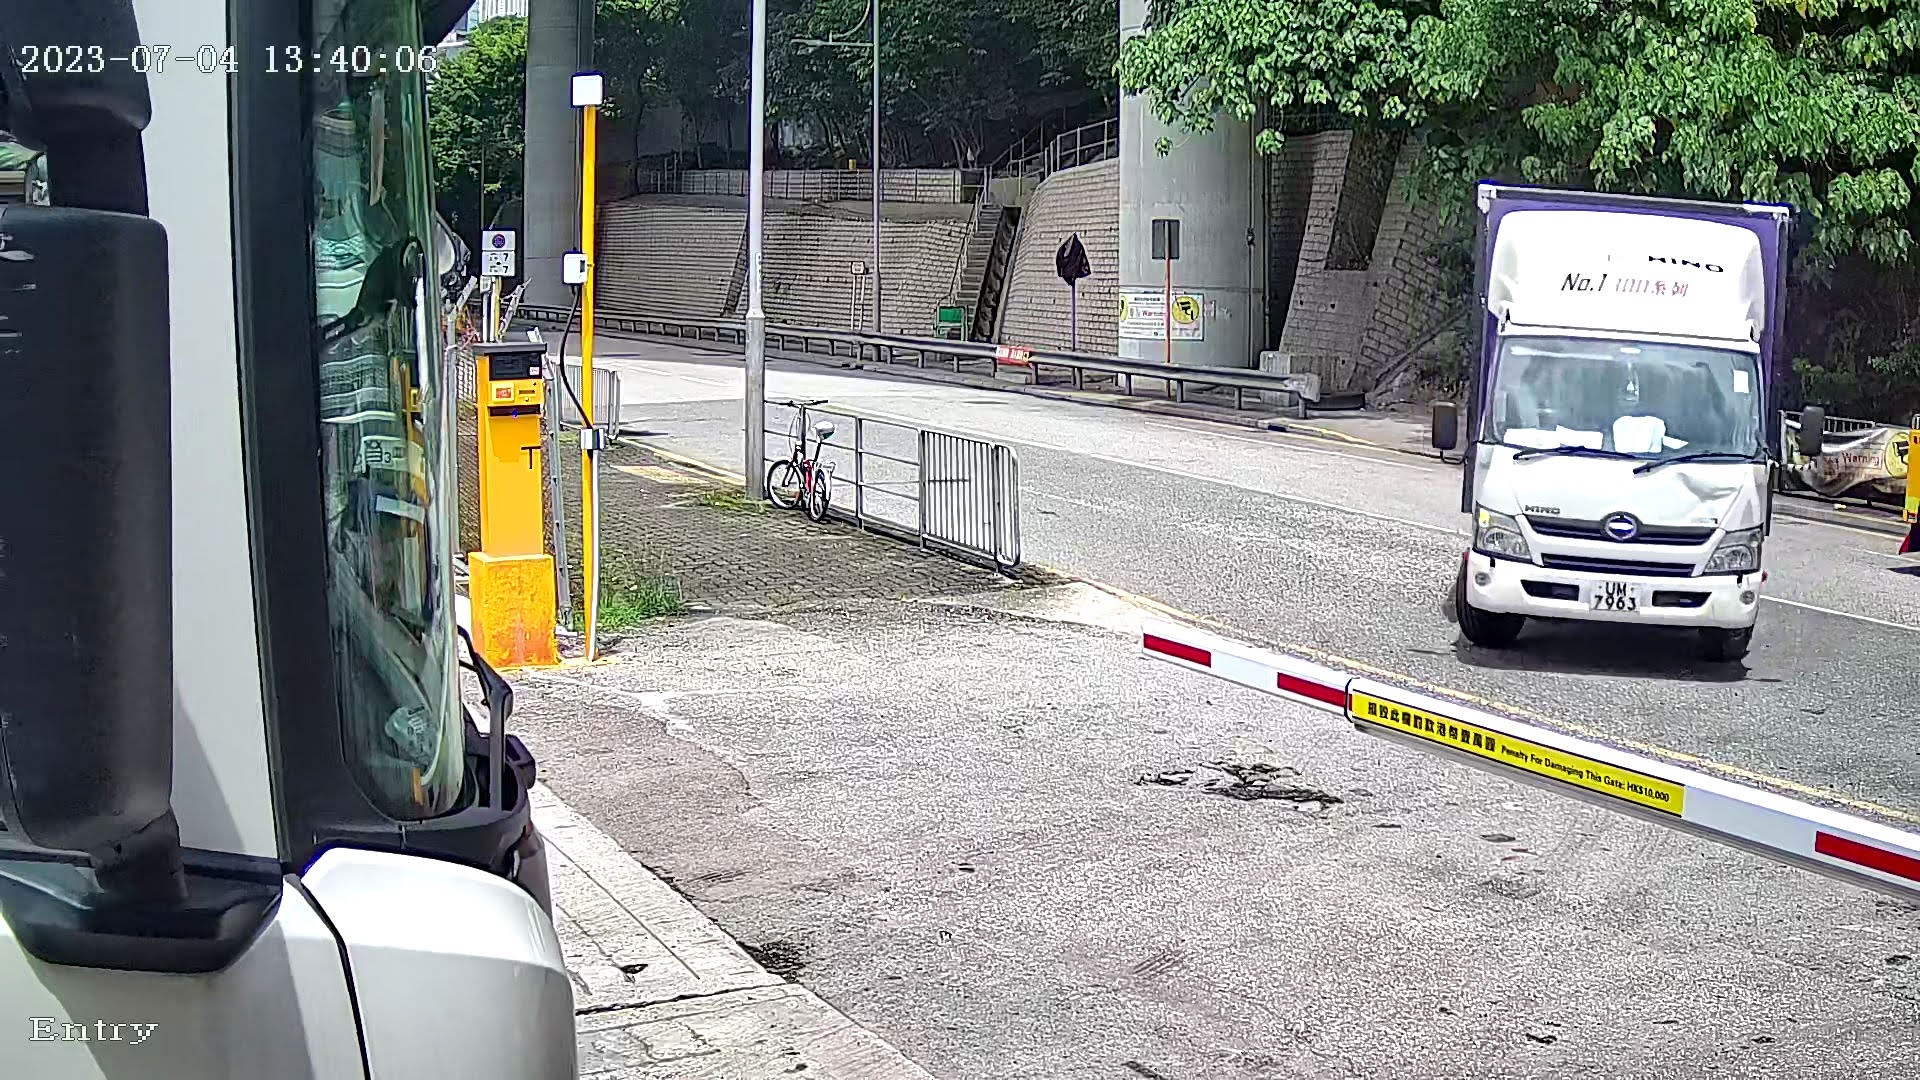truck: (1412, 169, 1836, 715)
